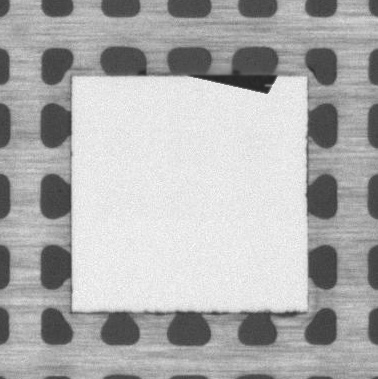DIE_BROKEN: (188, 72, 278, 96)
